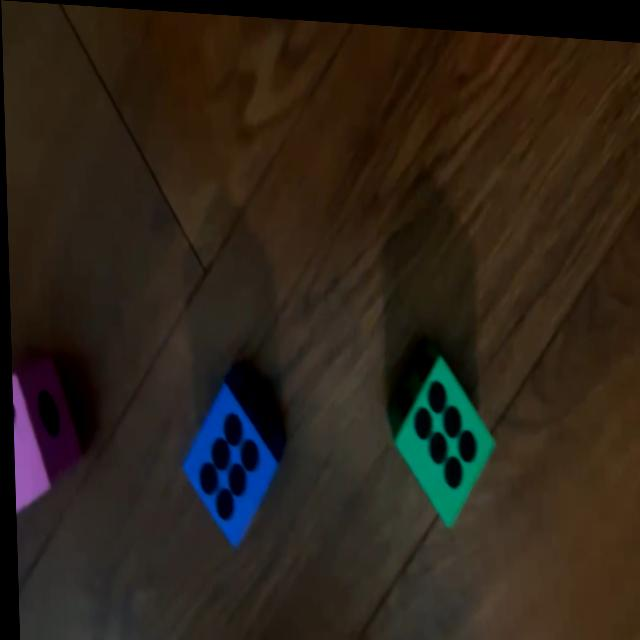blue_block: (175, 372, 278, 551)
